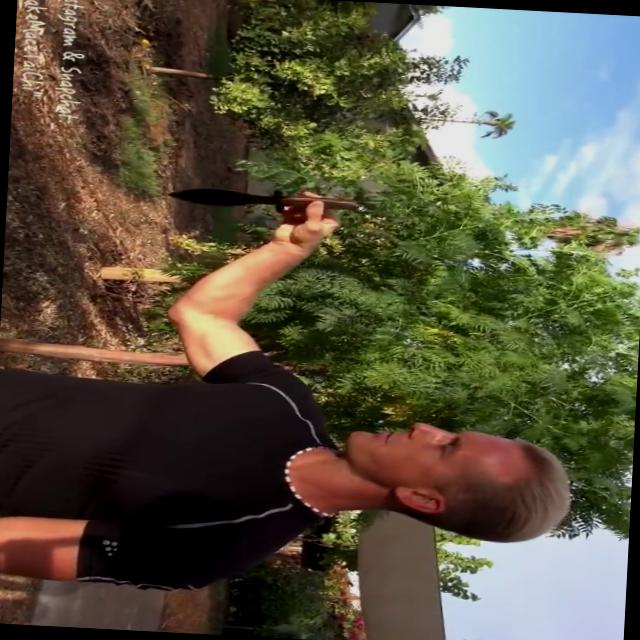knife: (160, 180, 374, 220)
